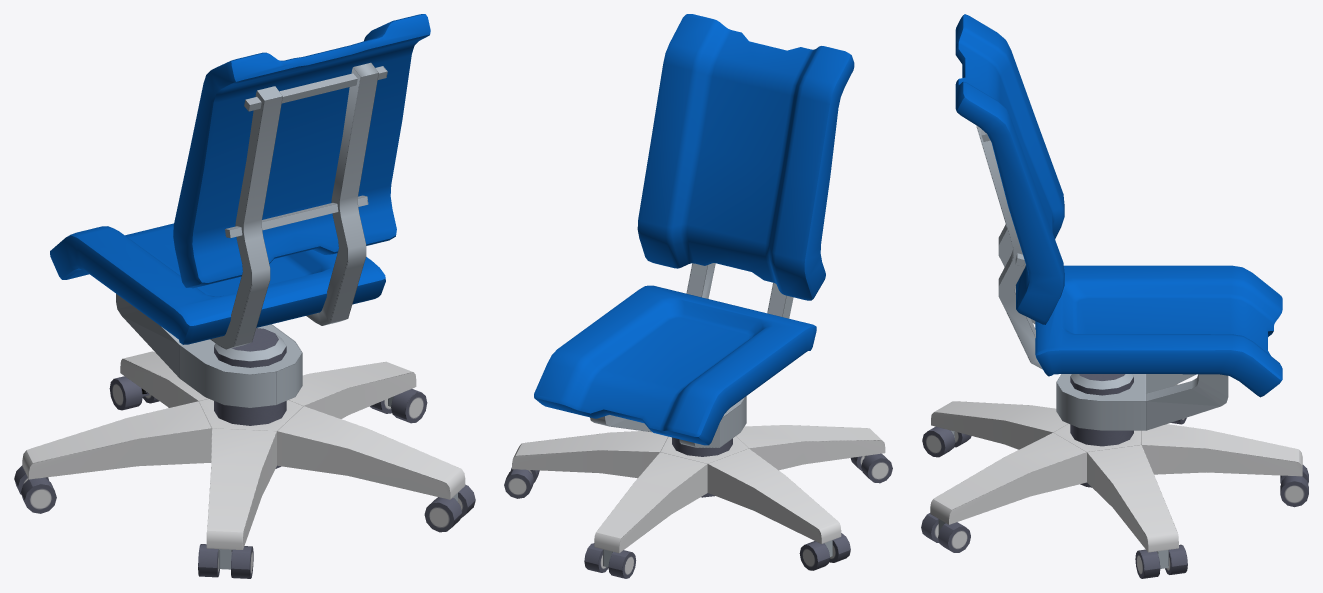
Rendered from Chair_01.FBX.
The picture shows the model from 3 angles, left to right: view 1: azimuth 30°, elevation 25°; view 2: azimuth 150°, elevation 25°; view 3: azimuth 270°, elevation 25°; orthographic projection. The views are drawn at different scales.
Parts seen in each view (by area): view 1: Chair_01, Sit; view 2: Sit, Chair_01; view 3: Sit, Chair_01.
Boxes of the visible parts, x1,y1,x2,y2 form: Chair_01: [14, 62, 475, 578]; Sit: [50, 14, 430, 344]; Sit: [534, 14, 854, 445]; Chair_01: [504, 263, 892, 578]; Sit: [955, 14, 1282, 397]; Chair_01: [921, 126, 1308, 578].
Bounding box in the file's own units: 1.25 × 1.5 × 1.19.
